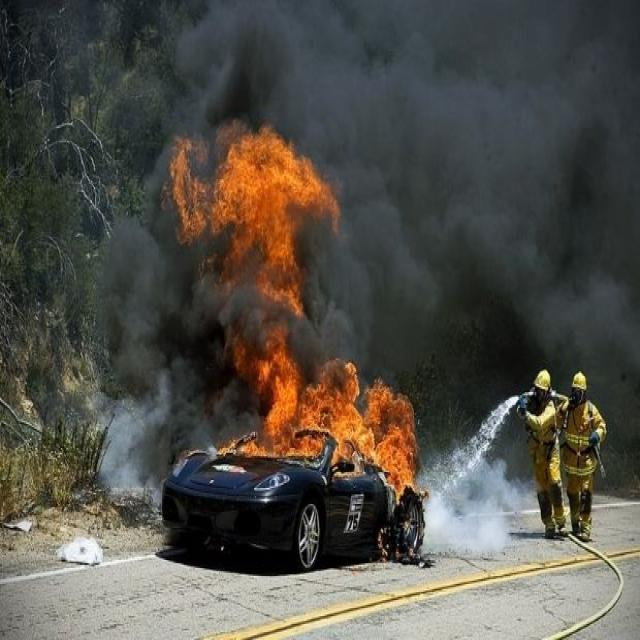fire: (174, 134, 348, 314), (252, 340, 434, 503)
